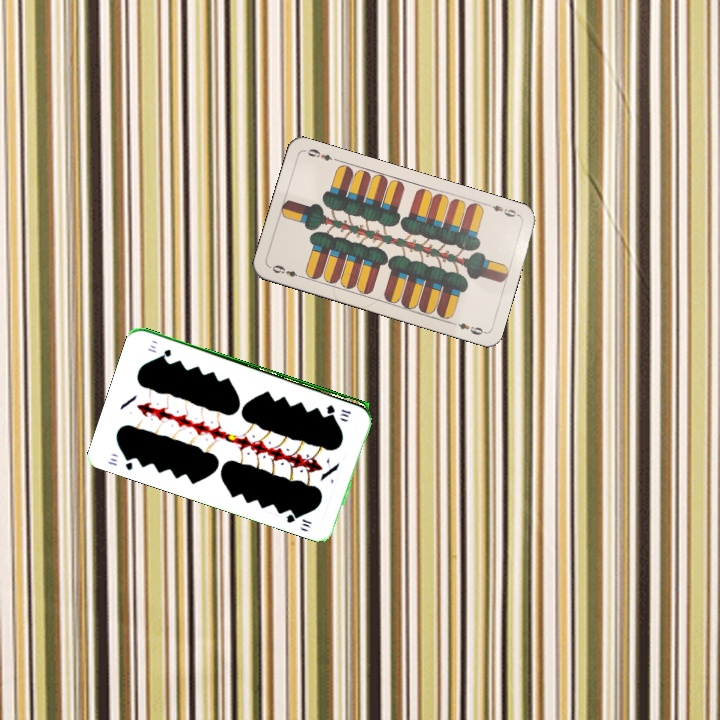E9: (482, 200, 522, 220), (268, 261, 306, 281)
G10: (104, 452, 137, 473), (322, 401, 353, 420)
